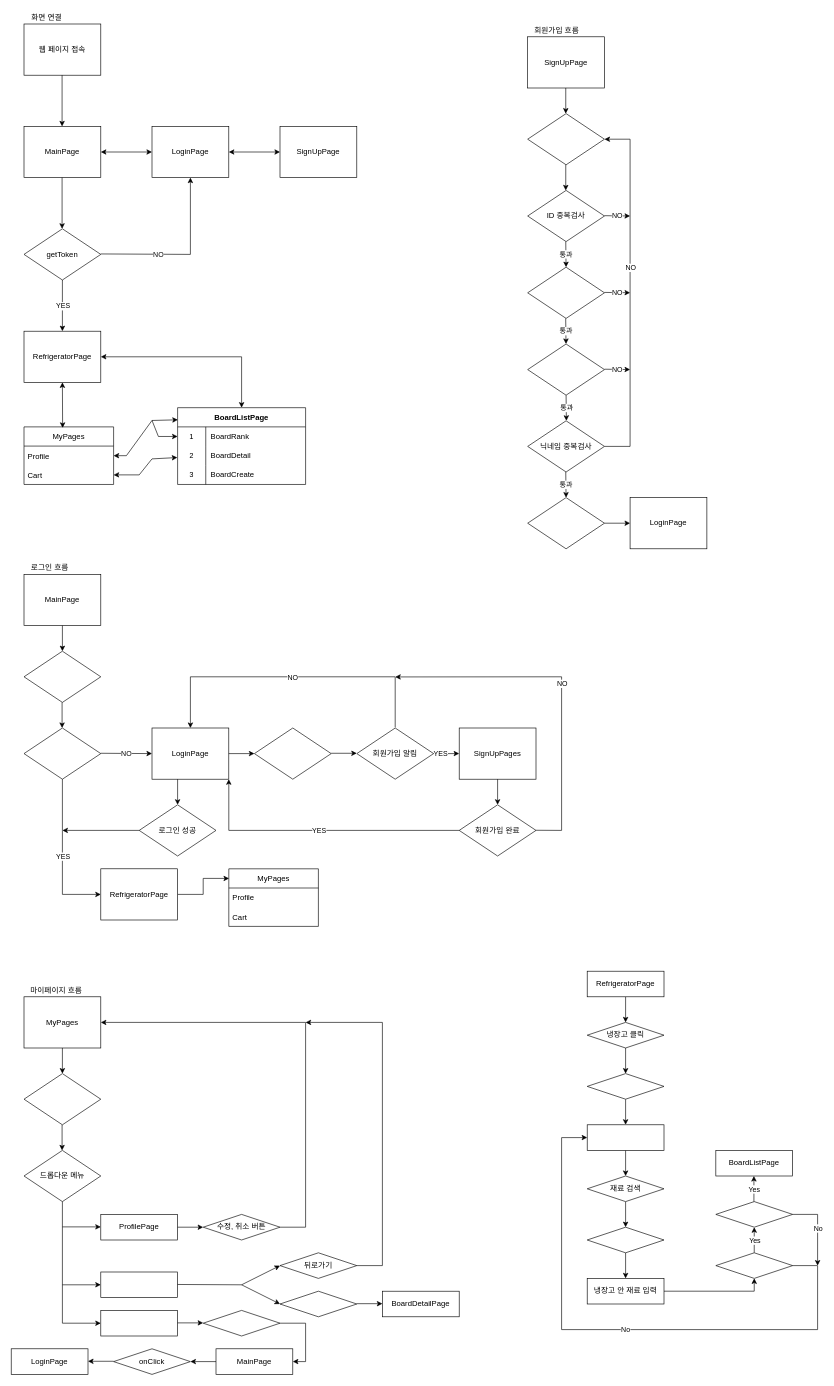
The diagram is 834 pixels wide and 1386 high, and some of its shapes have lost their labels. The centre of each missing label's shape, as x and y in pixels:
CartPage: point 139,1284
Email 정규식 검사: point 565,292
LogoutButton: point 139,1323
Token 소멸: point 241,1323
냉장고 문열림: point 625,1086
로그인 실패: point 292,753
로그인 유무: point 62,753
비밀번호 정규식 확인: point 565,369
스크랩 게시물: point 318,1304
아이콘 클릭: point 62,1099
재료 검색 모달: point 625,1137
재료 선택: point 625,1240
저장버튼 클릭: point 754,1265
클릭 이벤트: point 62,676
확인 alert: point 754,1214
회원가입 성공: point 565,523
회원정보 입력: point 565,139
